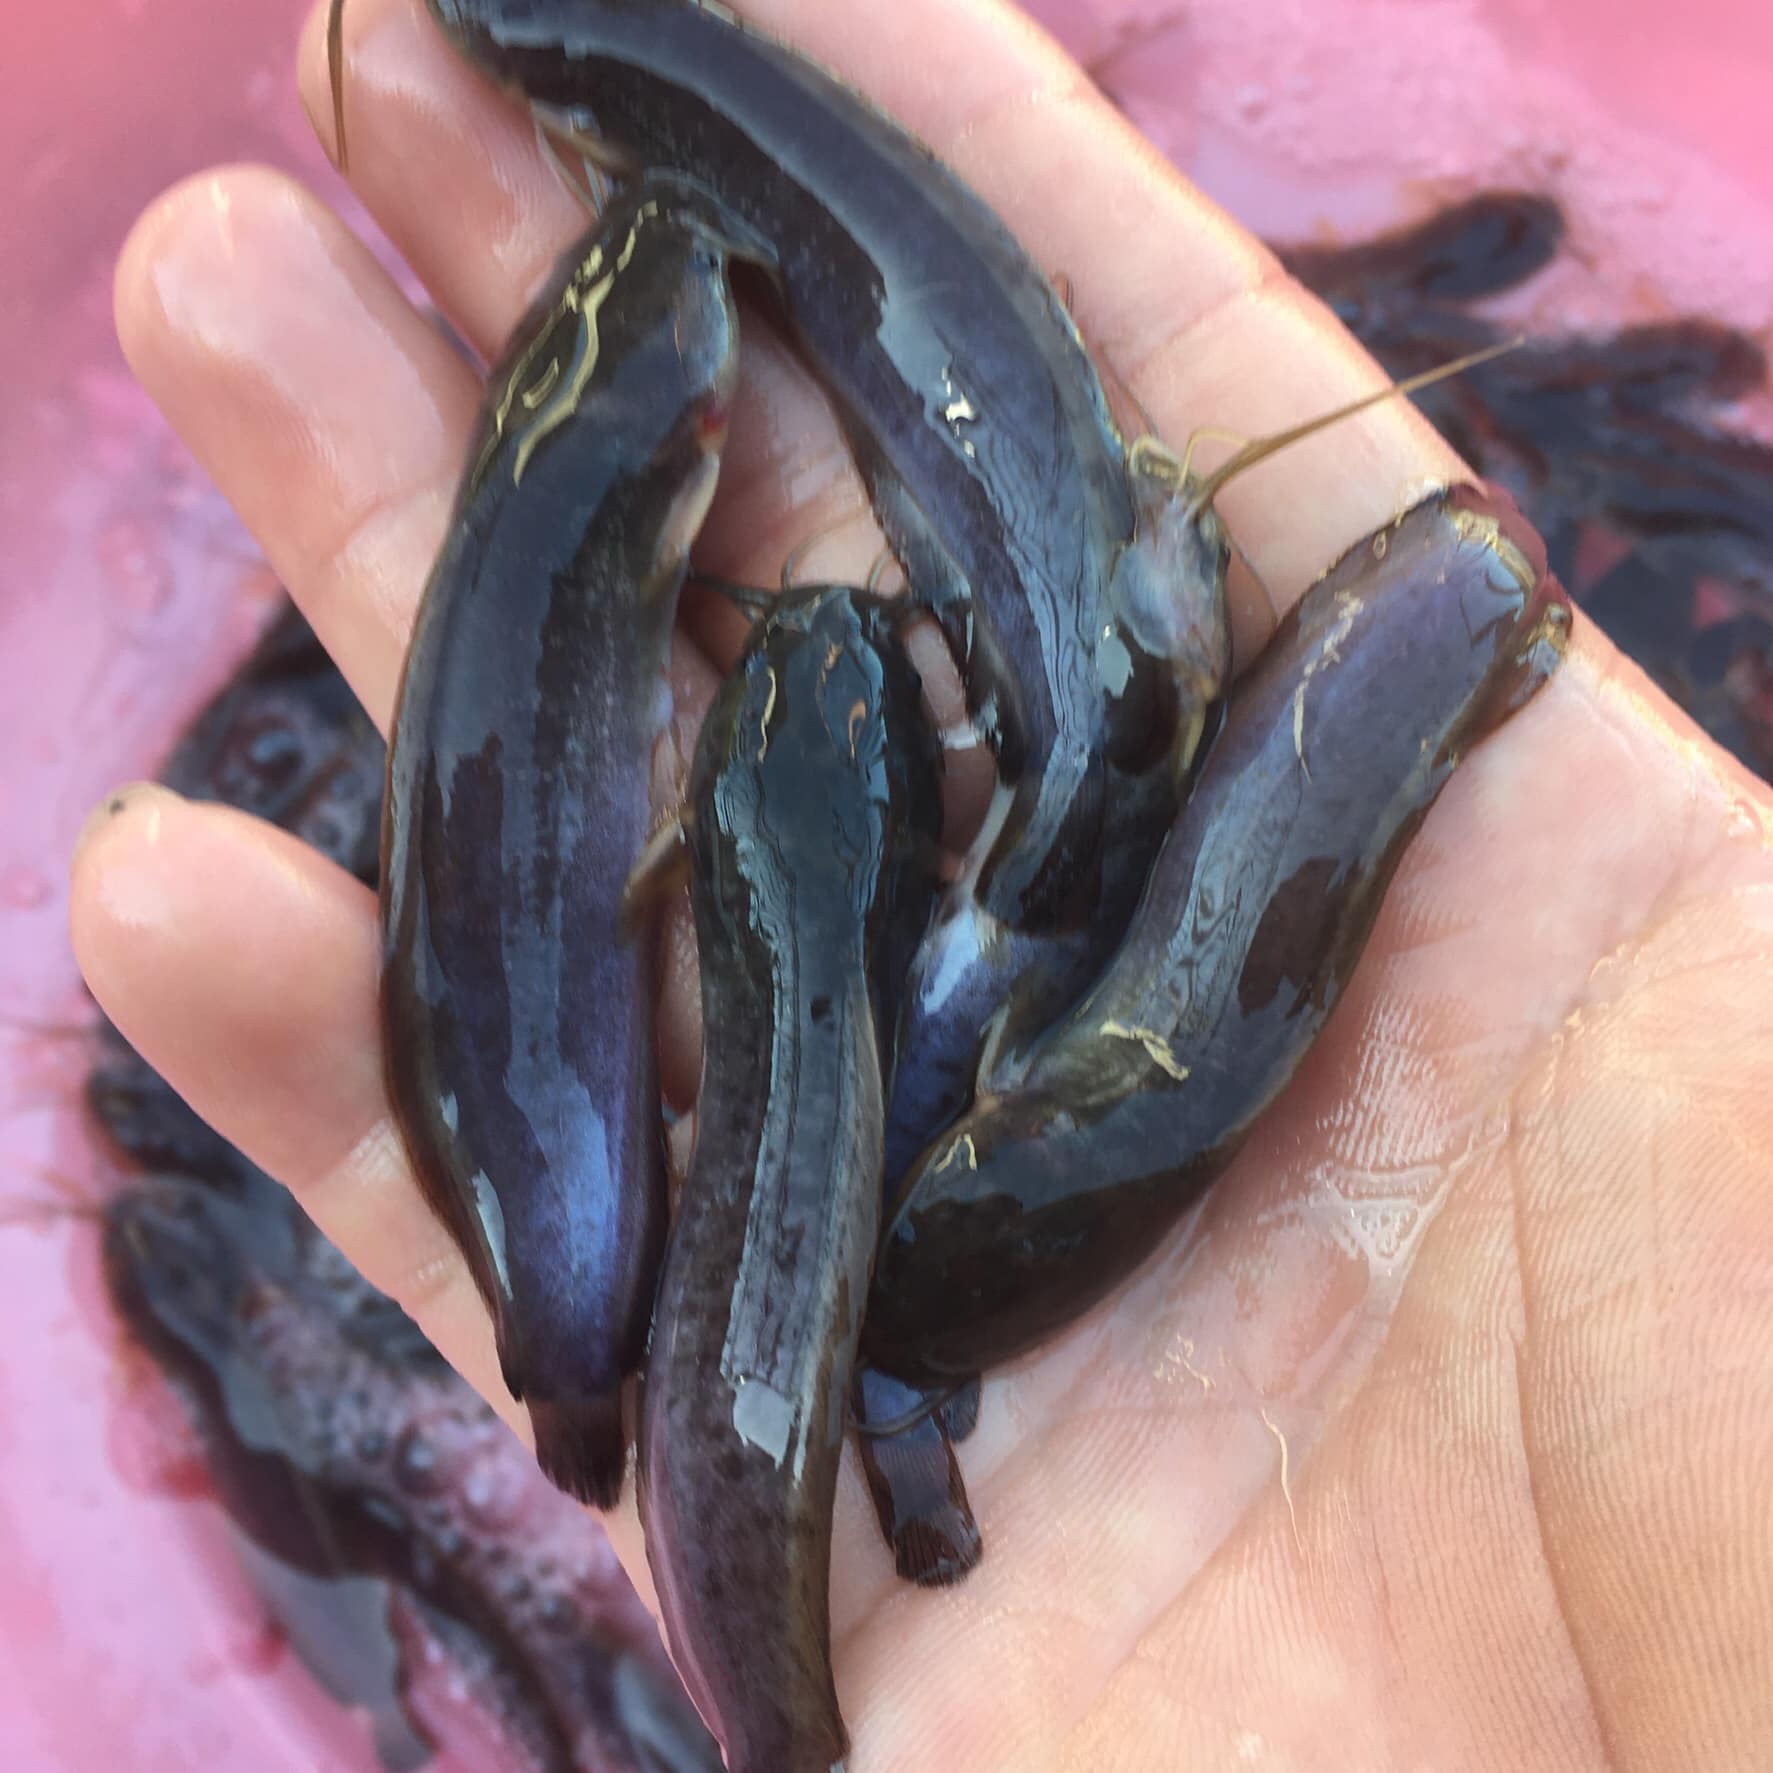fish: (687, 641, 930, 1193), (856, 1060, 1185, 1395), (500, 214, 701, 748), (492, 2, 908, 214), (1063, 367, 1236, 753)
